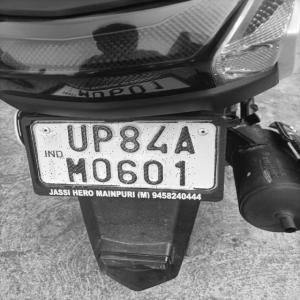Plate: (38, 124, 195, 188)
